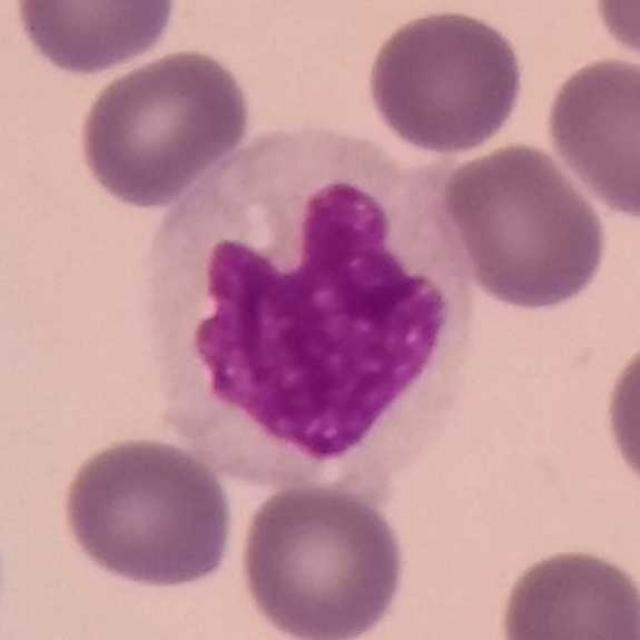Monocyte: (139, 126, 483, 508)
RBC: (438, 139, 612, 314), (75, 44, 254, 210), (56, 431, 239, 592), (234, 478, 412, 640), (360, 3, 530, 157), (541, 52, 640, 223), (494, 542, 640, 640), (11, 0, 183, 77), (599, 325, 640, 506), (587, 0, 640, 71)
